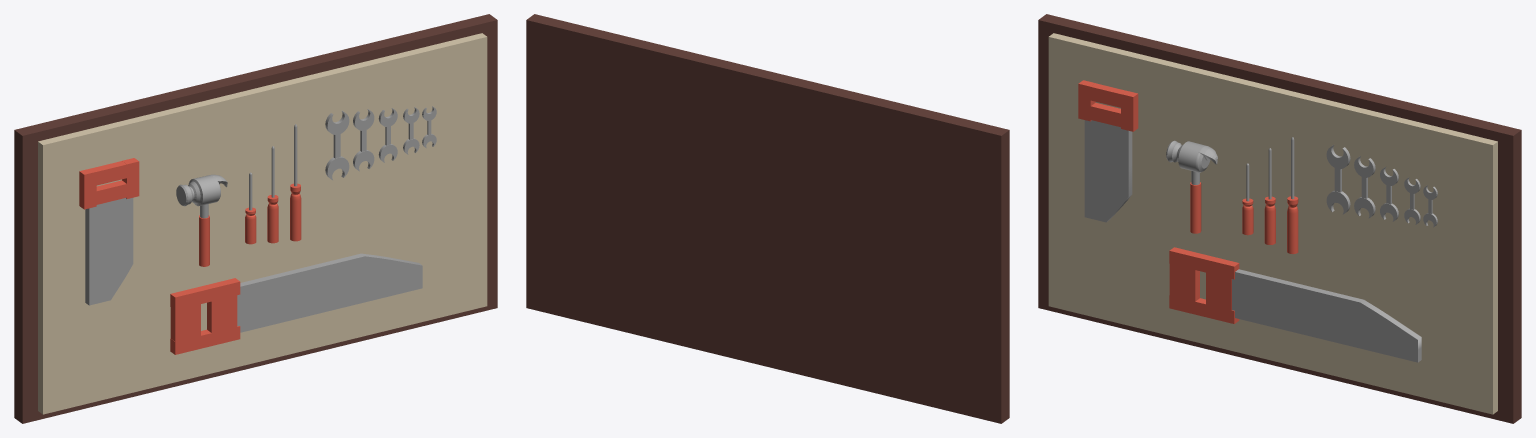
Rendered from tools.fbx.
3 views of the same model, side by side, from view 1: azimuth 30°, elevation 25°; view 2: azimuth 150°, elevation 25°; view 3: azimuth 330°, elevation 25° (orthographic).
Parts seen in each view (by area): view 1: pCube1, pCube8, saw2, saw, pCube4 (×2), pCube7 (×2), pCube6 (×2), pCube5 (×2), pCylinder10 (×2), pCylinder8, pCylinder9; view 2: pCube8; view 3: pCube1, pCube8, saw2, saw, pCube4 (×2), pCube6 (×2), pCube7 (×2), pCylinder10 (×2), pCylinder8, pCube5, pCylinder9.
Part boxes in pixels (x1=…): pCube1: x1=38, y1=33, x2=487, y2=414; pCube8: x1=14, y1=14, x2=497, y2=423; saw2: x1=237, y1=253, x2=422, y2=332; saw: x1=85, y1=198, x2=133, y2=305; pCube4 (×2): x1=122, y1=158, x2=240, y2=310; pCube7 (×2): x1=90, y1=180, x2=237, y2=339; pCube6 (×2): x1=90, y1=161, x2=200, y2=341; pCube5 (×2): x1=79, y1=168, x2=240, y2=354; pCylinder10 (×2): x1=267, y1=183, x2=301, y2=243; pCylinder8: x1=176, y1=174, x2=227, y2=206; pCylinder9: x1=199, y1=215, x2=209, y2=266; pCube8: x1=526, y1=14, x2=1009, y2=423; pCube1: x1=1048, y1=33, x2=1497, y2=414; pCube8: x1=1038, y1=14, x2=1521, y2=423; saw2: x1=1232, y1=269, x2=1421, y2=362; saw: x1=1084, y1=120, x2=1132, y2=222; pCube4 (×2): x1=1121, y1=90, x2=1239, y2=279; pCube6 (×2): x1=1084, y1=83, x2=1199, y2=307; pCube7 (×2): x1=1084, y1=103, x2=1231, y2=316; pCylinder10 (×2): x1=1264, y1=196, x2=1298, y2=254; pCylinder8: x1=1166, y1=140, x2=1217, y2=172; pCube5: x1=1169, y1=295, x2=1239, y2=323; pCylinder9: x1=1190, y1=182, x2=1201, y2=233.
Size of the model in its own units: 9.35 by 5.42 by 0.973.
